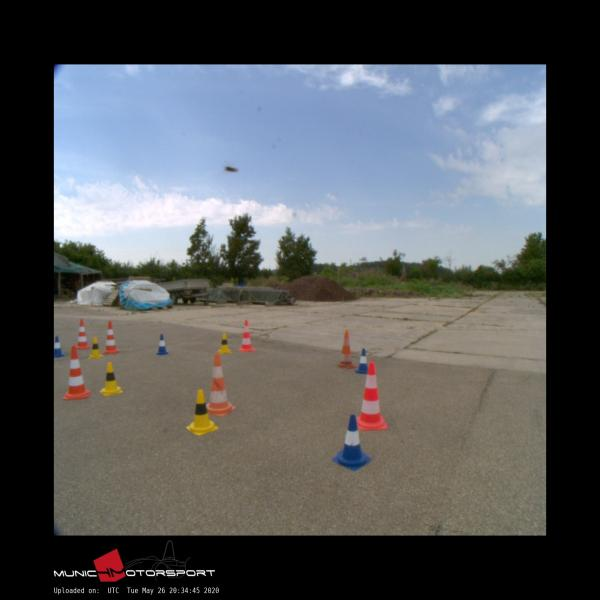blue_cone: (332, 415, 371, 470), (355, 347, 371, 374), (156, 334, 168, 354), (54, 336, 64, 356)
large_orange_cone: (355, 361, 386, 429), (204, 353, 235, 416), (63, 345, 90, 399), (337, 330, 355, 368), (102, 321, 120, 353), (238, 320, 254, 352), (76, 319, 90, 349)
yellow_cone: (187, 390, 218, 434), (100, 363, 122, 396), (89, 337, 103, 357), (218, 333, 230, 353)
